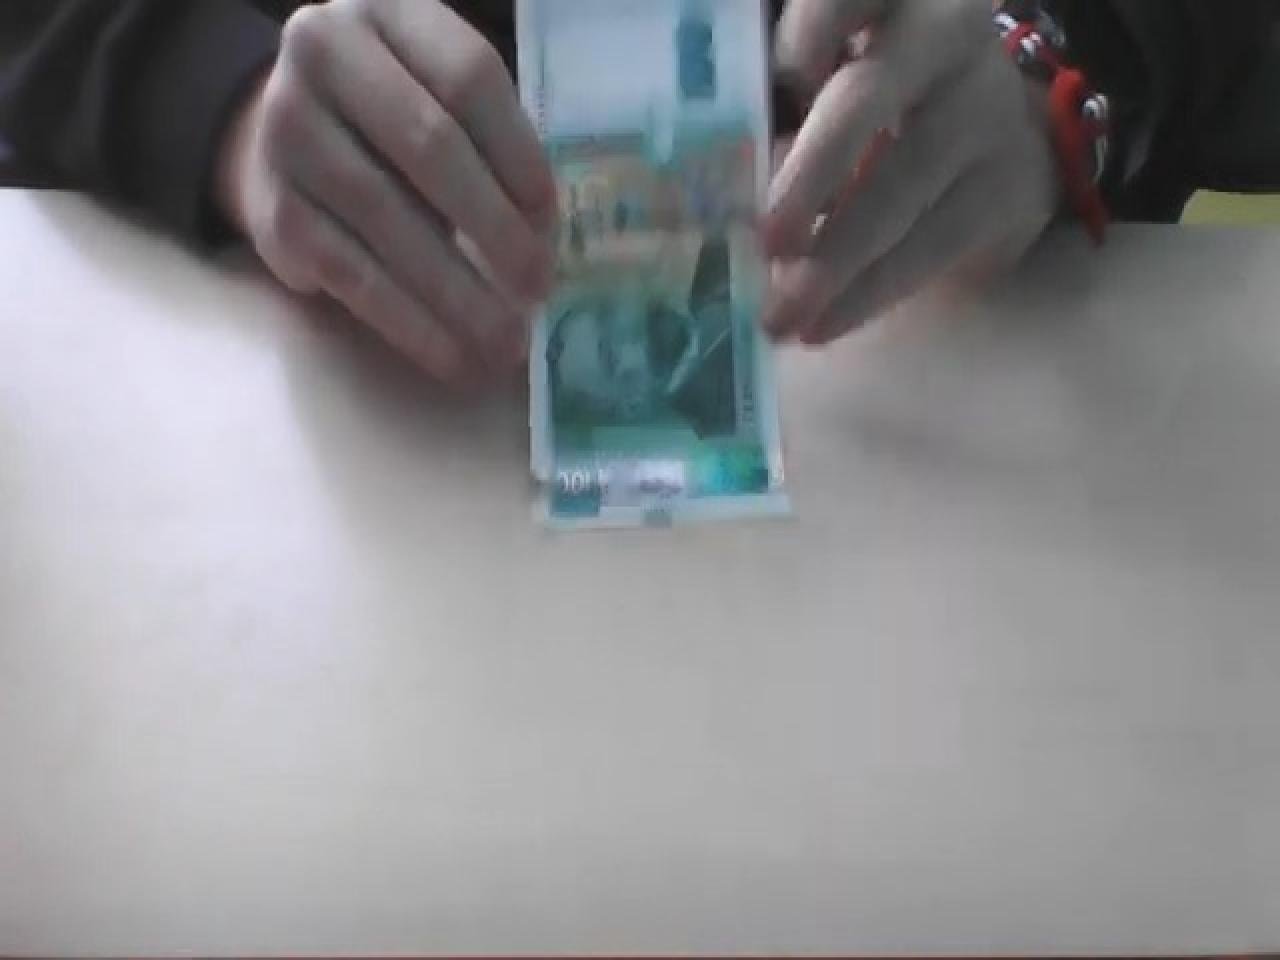100leva: (502, 0, 794, 538)
